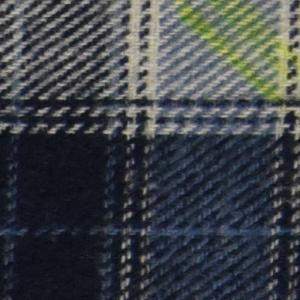Stain: (172, 2, 300, 121)
